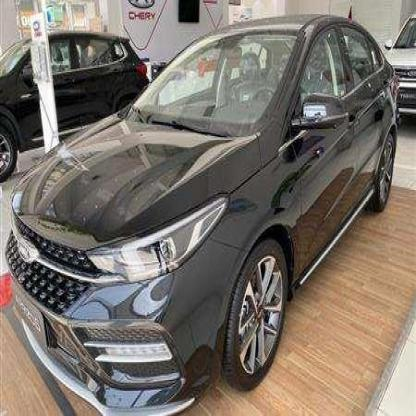Car: (0, 21, 400, 416), (0, 28, 127, 155), (382, 21, 416, 132)
